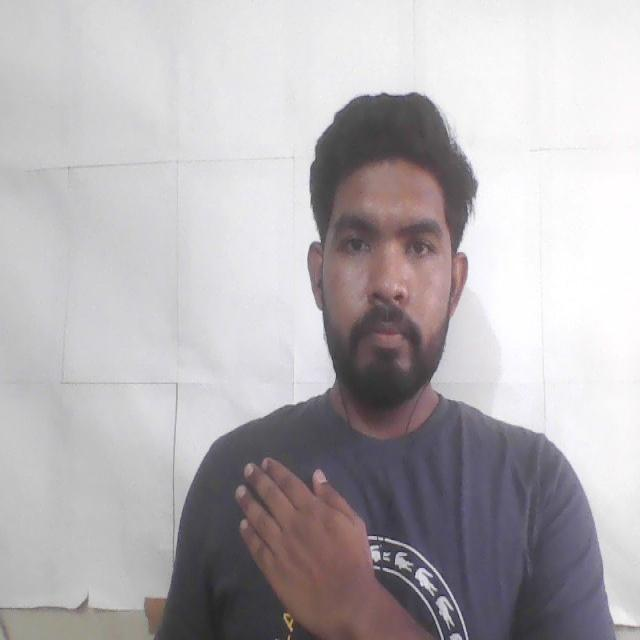Please: (218, 447, 464, 640)
